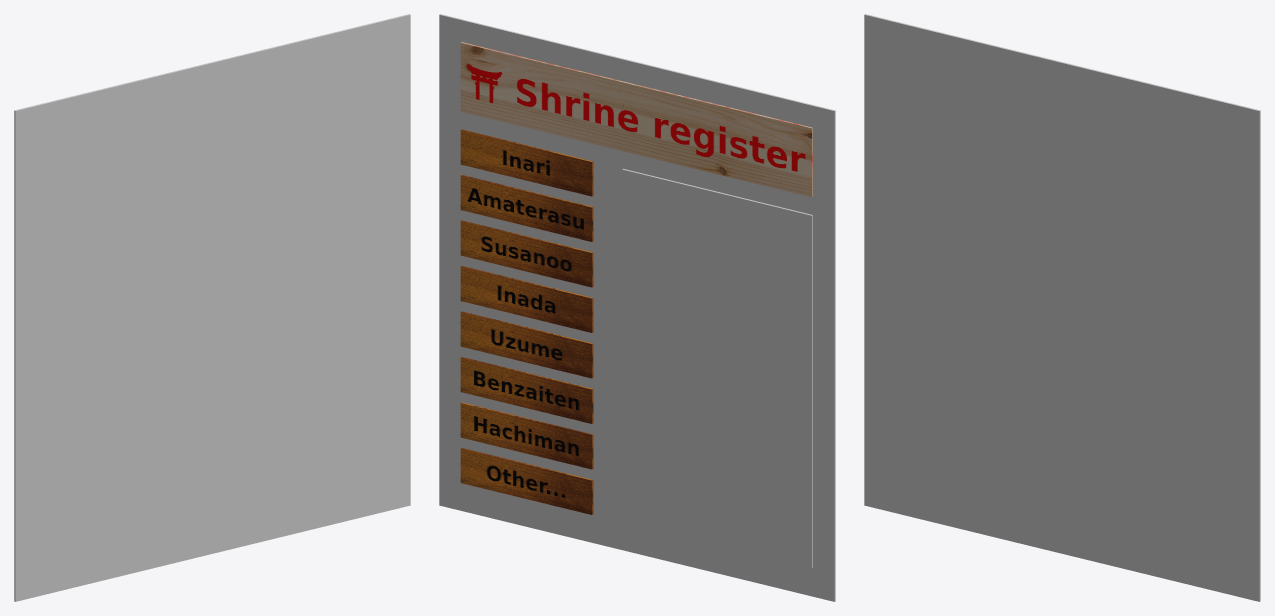
The model's file is board.dae.
The picture shows the model from 3 angles, left to right: view 1: azimuth 30°, elevation 25°; view 2: azimuth 150°, elevation 25°; view 3: azimuth 330°, elevation 25°; orthographic projection.
Parts seen in each view (by area): view 1: prim0; view 2: prim10, prim0, prim1, prim2, prim4, prim6, prim8, prim3, prim5, prim7, prim9; view 3: prim0.
Boxes of the visible parts, bbox=[...] form: prim0: bbox=[14, 14, 410, 601]; prim10: bbox=[622, 168, 812, 568]; prim0: bbox=[439, 14, 835, 601]; prim1: bbox=[460, 42, 812, 197]; prim2: bbox=[460, 129, 593, 196]; prim4: bbox=[460, 220, 593, 287]; prim6: bbox=[460, 311, 593, 378]; prim8: bbox=[460, 402, 593, 469]; prim3: bbox=[460, 175, 593, 241]; prim5: bbox=[460, 266, 593, 332]; prim7: bbox=[460, 357, 593, 423]; prim9: bbox=[460, 448, 593, 514]; prim0: bbox=[864, 14, 1260, 601].
Bounding box in the file's own units: 2.25 × 0.02 × 2.67.
10 materials, 9 textured.
